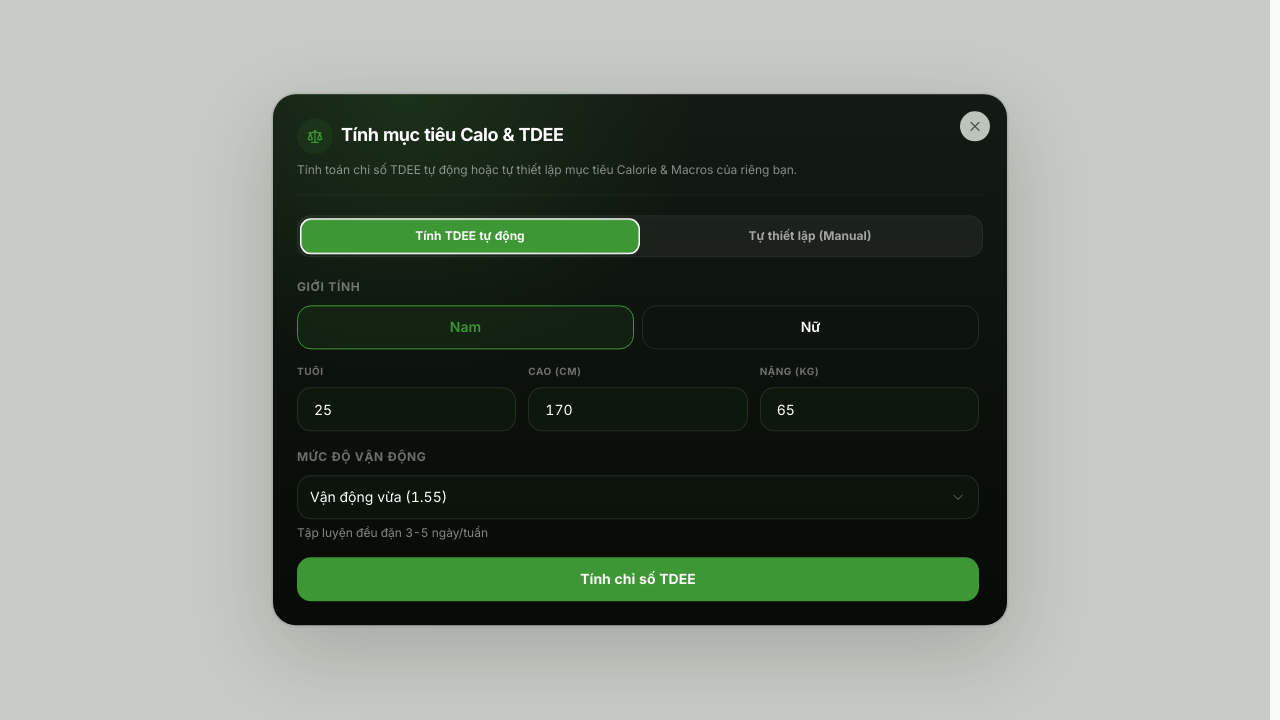
Test: TdeeCalculator Upgrade › prefills form from BE calorie target when open
The width and height of the screenshot is (1280, 720).
# Switch to manual tab to inspect prefilled values
Click the button "Tự thiết lập (Manual)".
click(810, 236)  # box [642,220,978,252]
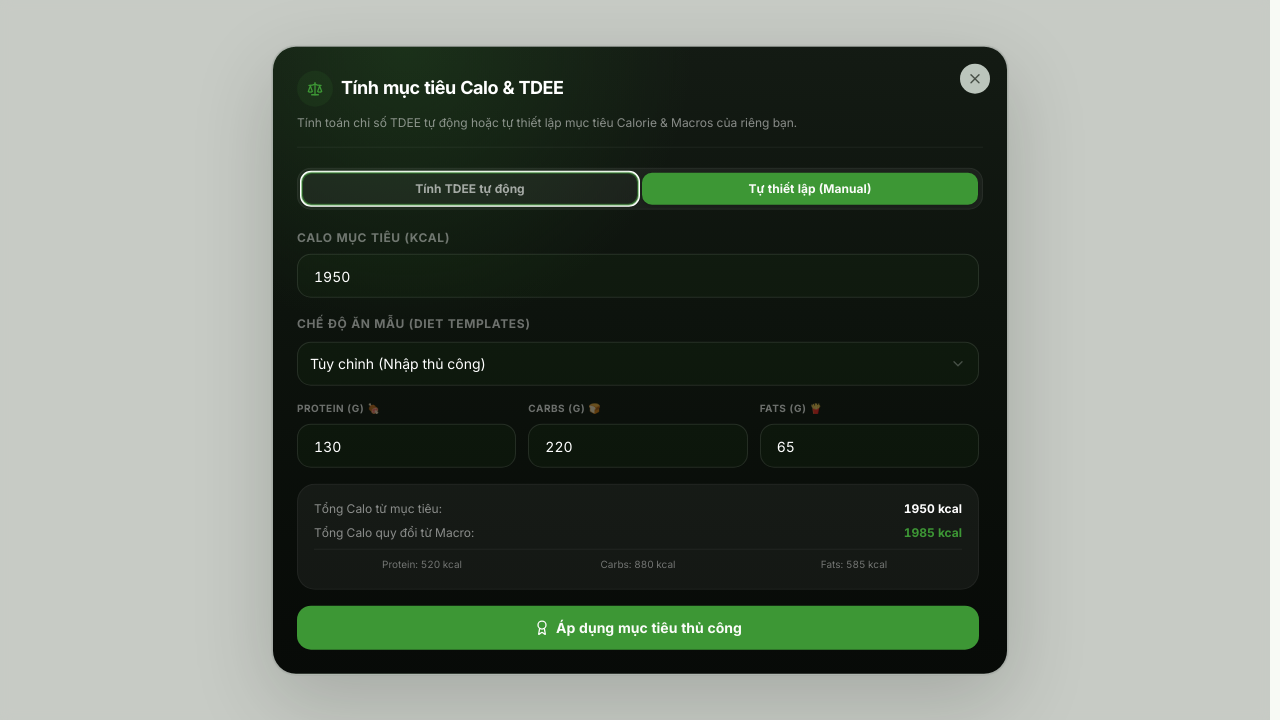
Result: the number field labelled "Calo mục tiêu (kcal)" holds "1950" at [297,254,979,298]
Result: the number field labelled "Protein (g) 🍖" holds "130" at [297,424,516,468]
Result: the number field labelled "Carbs (g) 🍞" holds "220" at [528,424,748,468]
